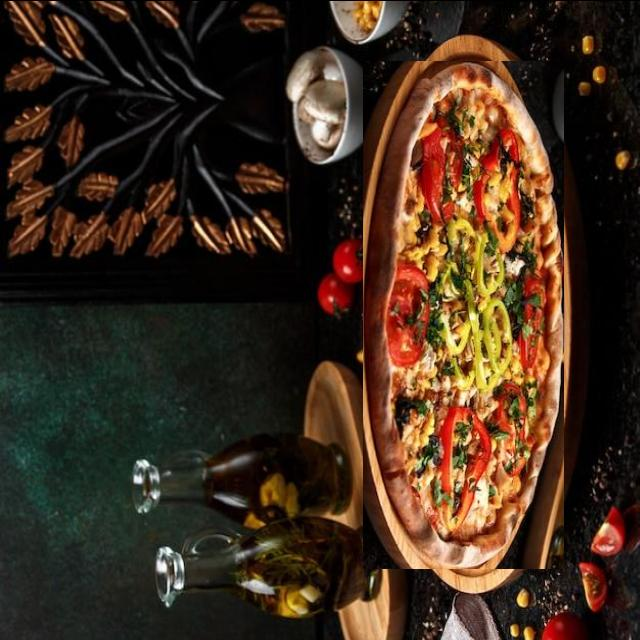basil: (447, 94, 492, 192), (436, 229, 476, 321), (386, 277, 426, 342), (446, 227, 479, 300), (478, 269, 502, 353), (389, 158, 413, 226), (454, 416, 480, 474), (396, 389, 422, 443), (499, 394, 532, 433), (411, 128, 434, 182), (481, 436, 514, 472), (387, 238, 424, 270), (491, 210, 511, 247), (389, 380, 405, 418), (419, 419, 440, 445), (470, 486, 488, 514), (470, 359, 489, 380), (395, 439, 412, 462), (410, 456, 422, 478), (431, 486, 438, 498)
pizza: (363, 60, 564, 568)
